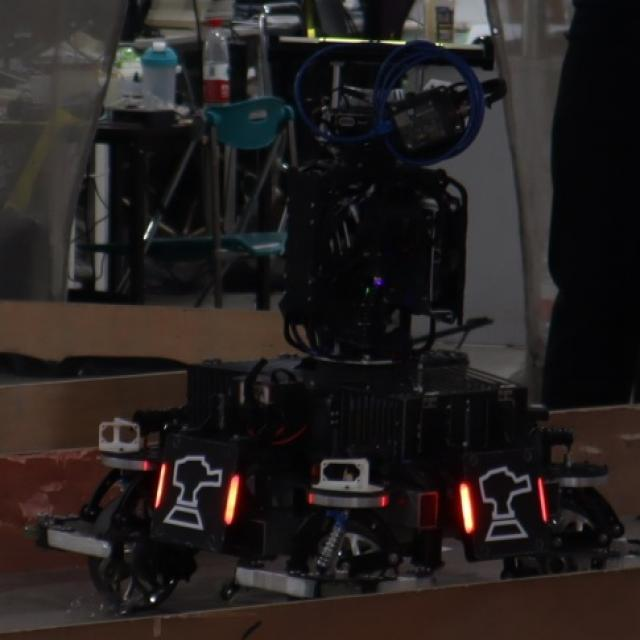Rs: (153, 441, 240, 537), (458, 466, 555, 552)
